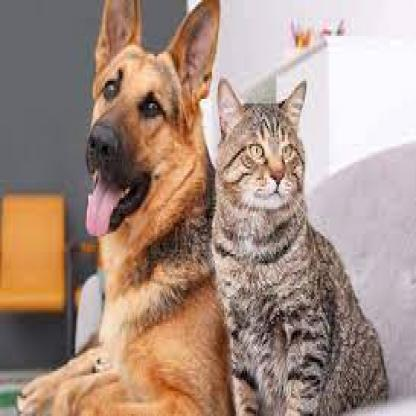cat: (214, 86, 346, 256)
dog: (67, 9, 207, 264)
